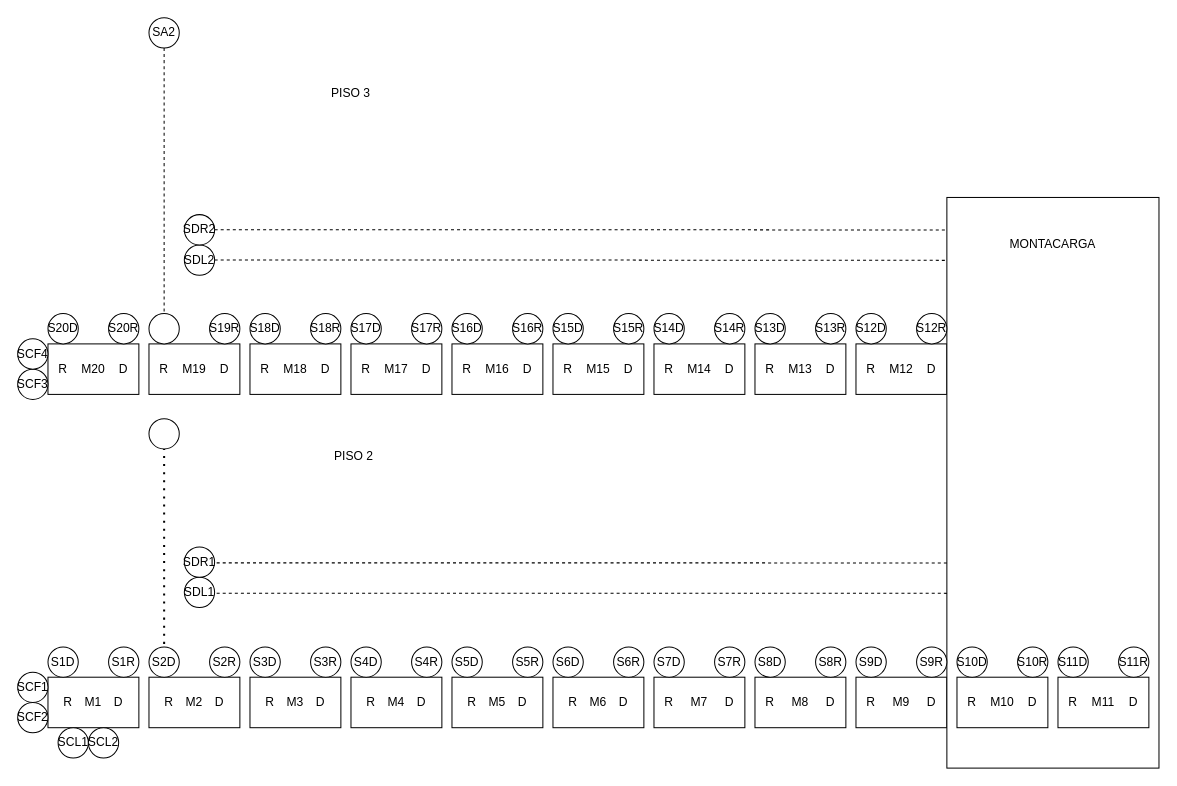
This 1177x786 diagram has some shape labels left out. Each missing label, with the centre of its shape:
S19D: the point at 163,328
SA1: the point at 163,433
